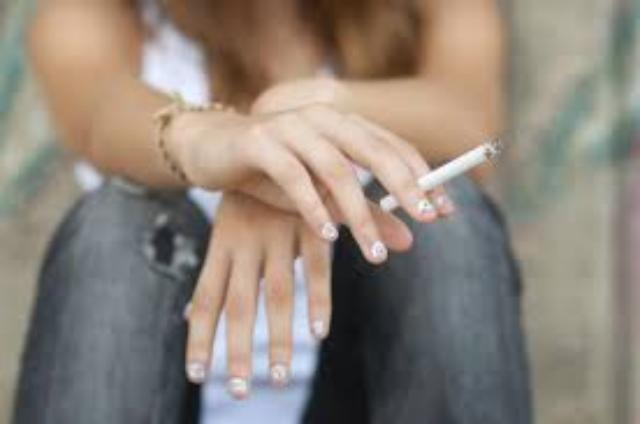Cigarette: (381, 140, 502, 214)
